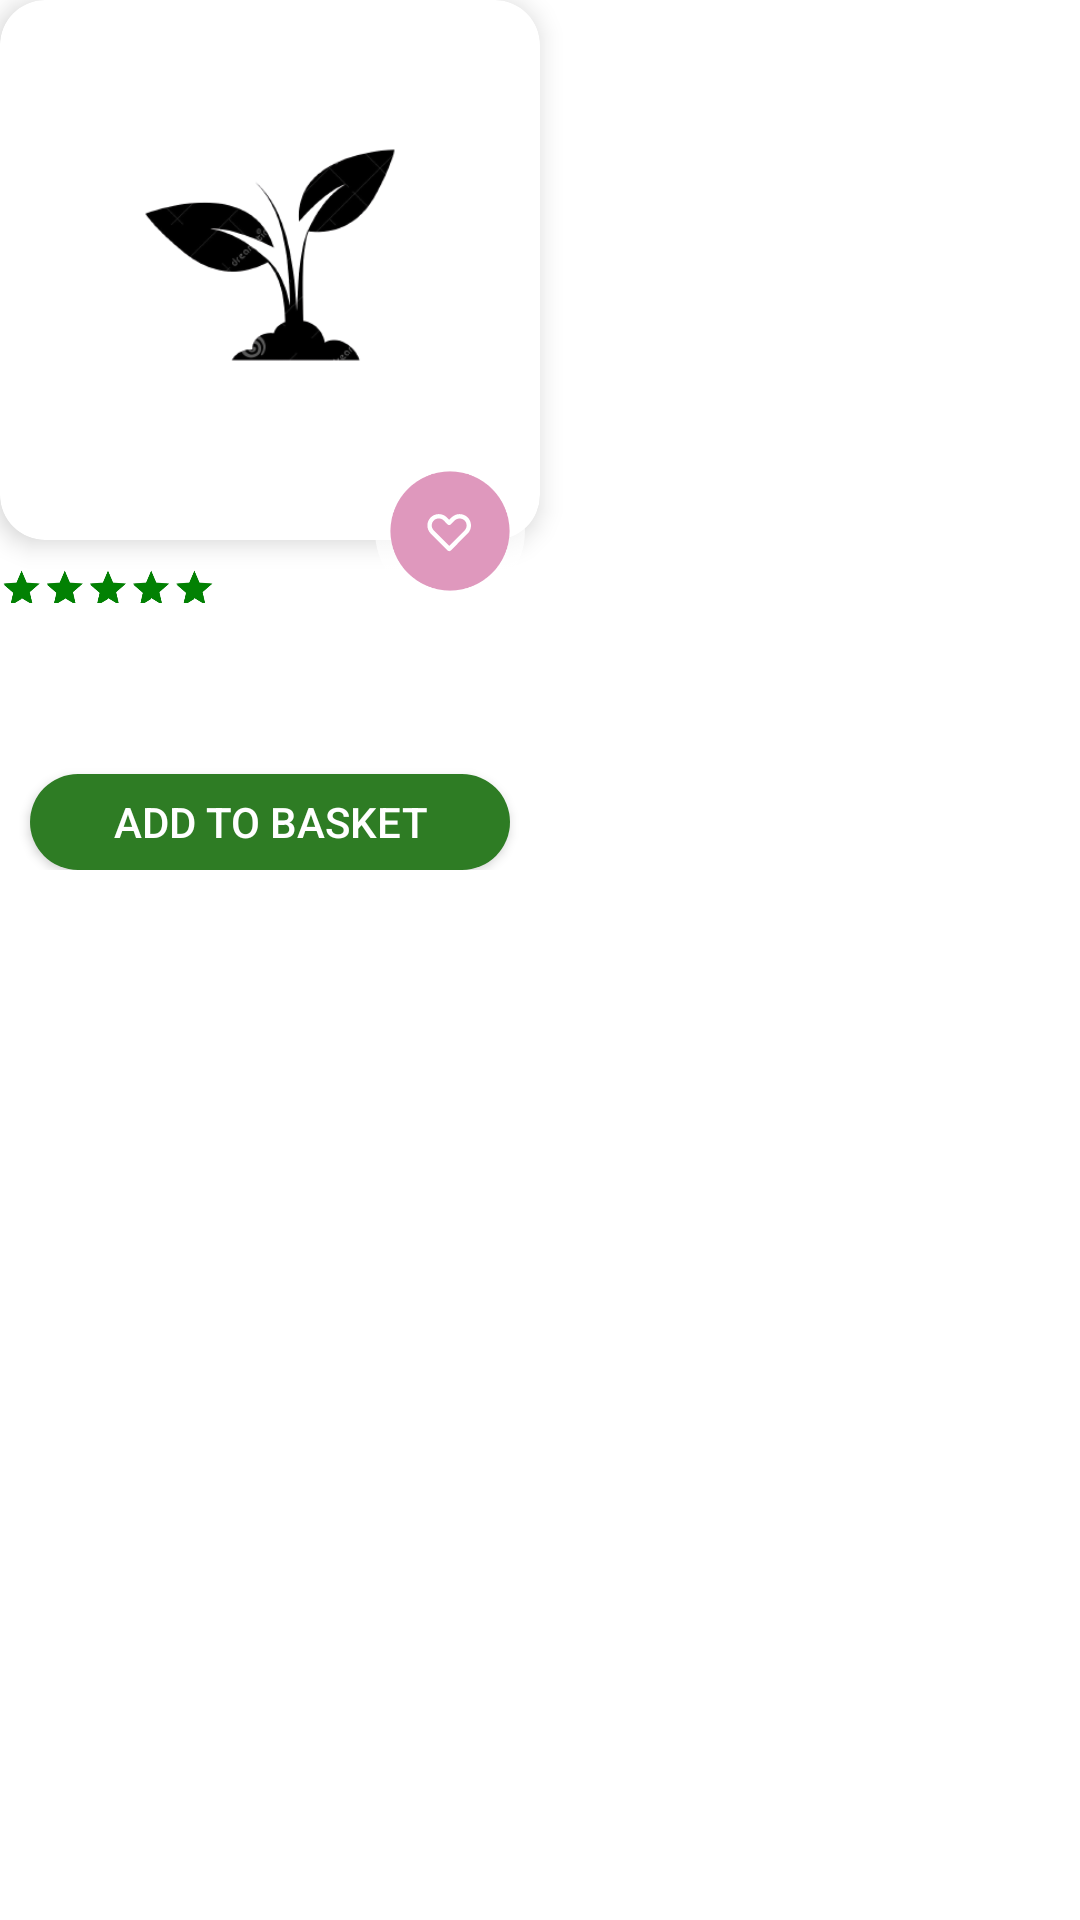

Screen size 1080 × 1920. Icon name, then its box in pixels as detection(x1, y1, x2, y2):
heart: detection(390, 471, 510, 591)
